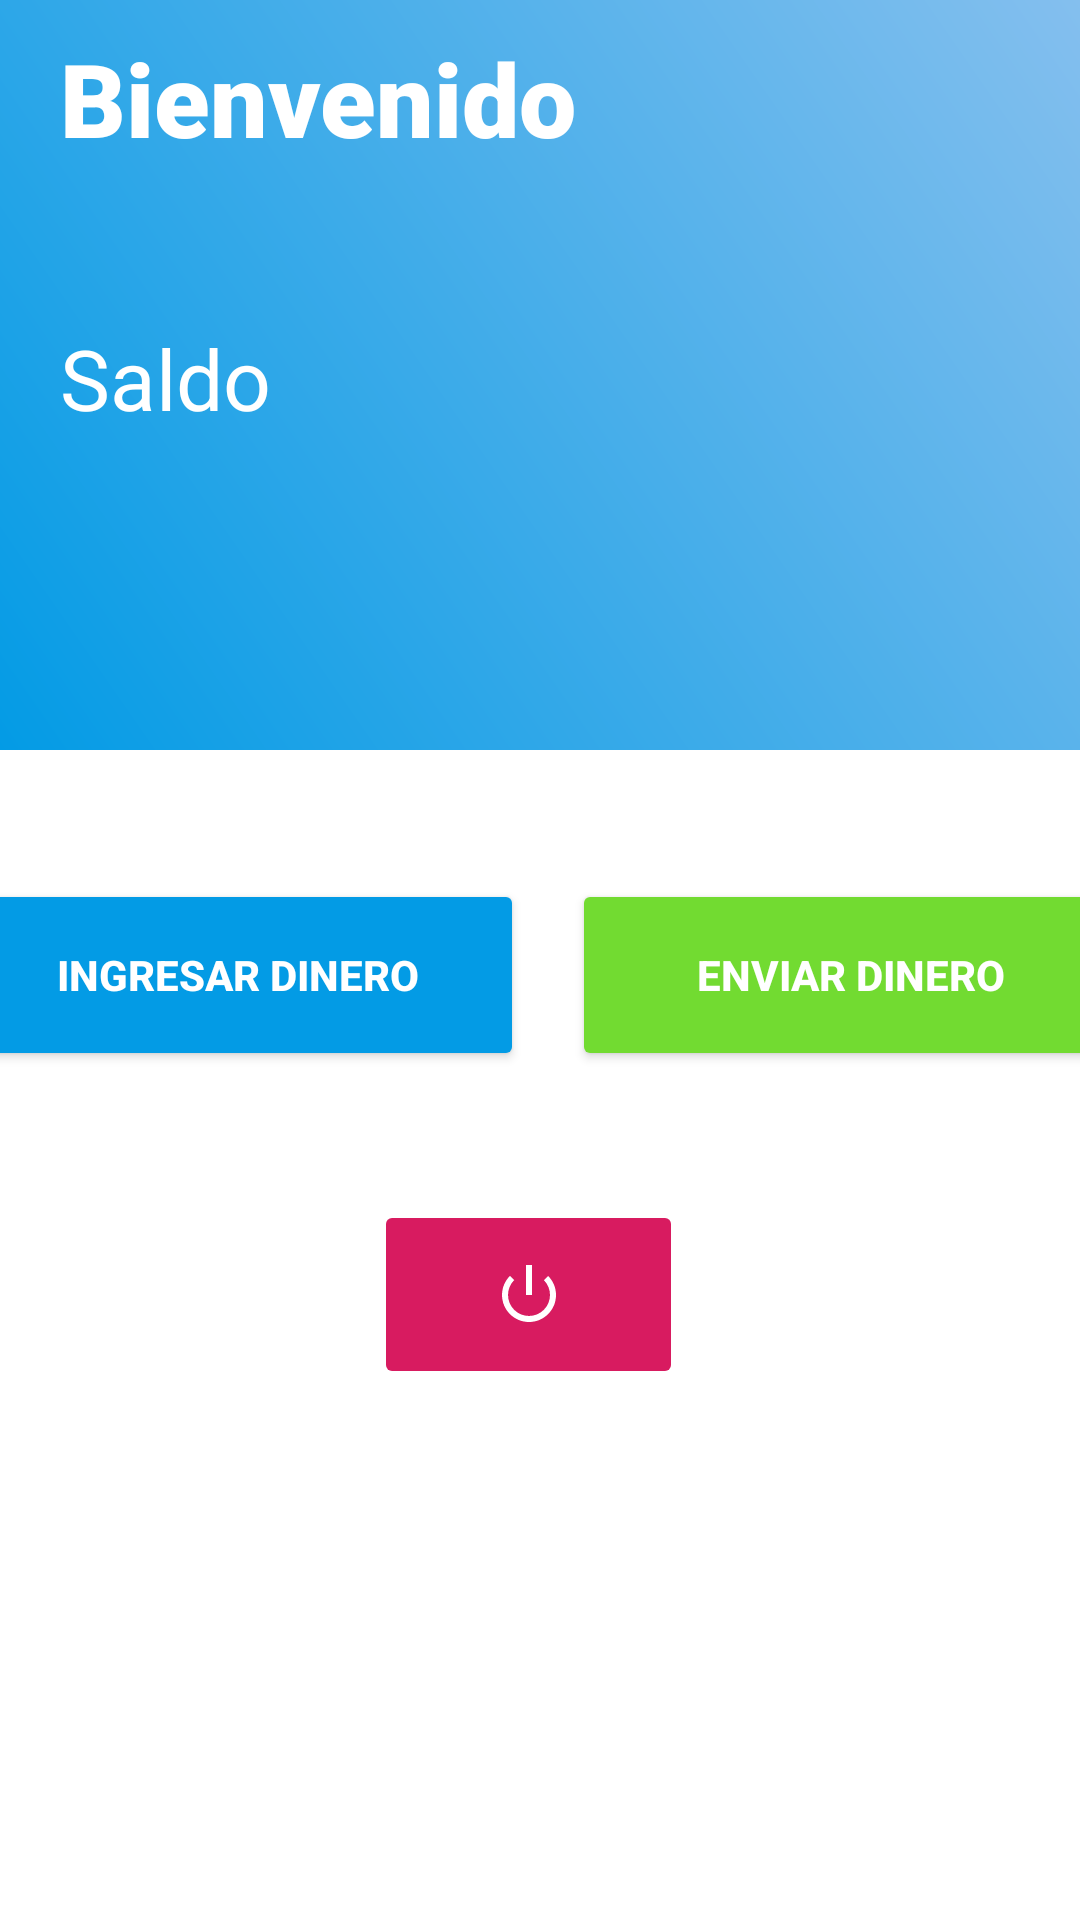

Where icons sit on this 1080w x 1920h app screen, as [x1=x1, y1=y1, x2=x2, y2=y2]:
lock power off: [x1=386, y1=1218, x2=671, y2=1371]
